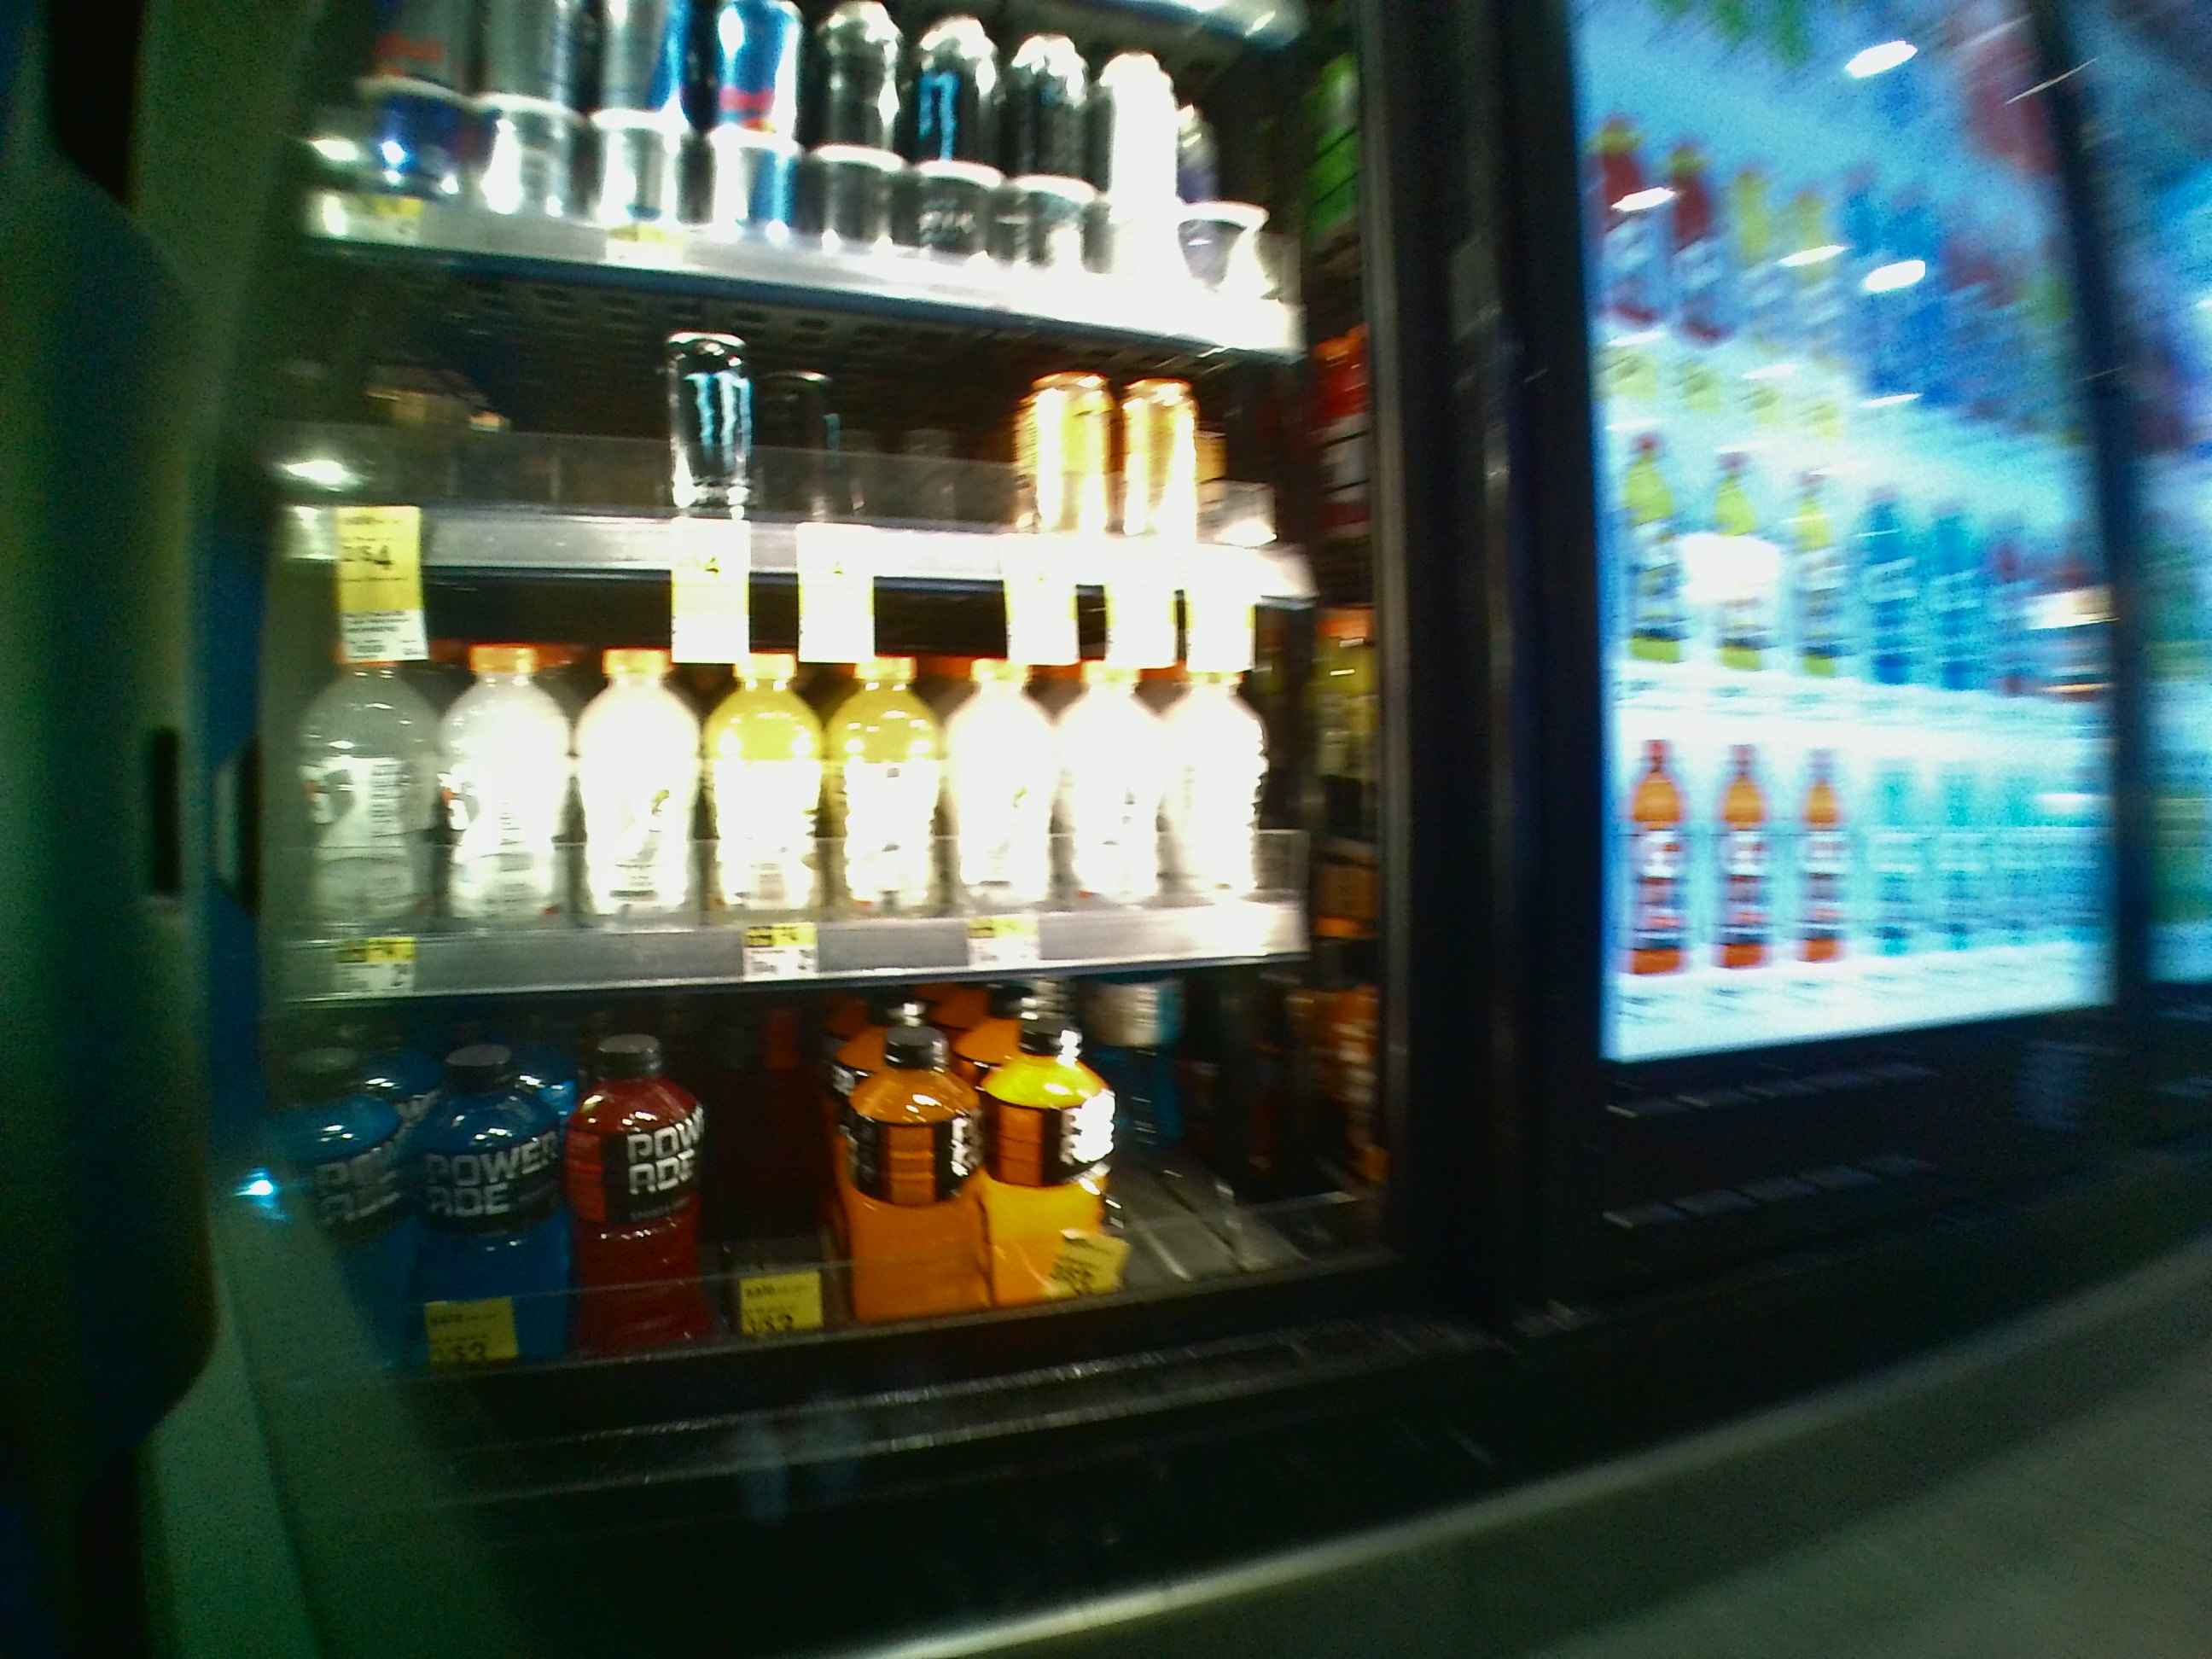shelf: (249, 572, 1404, 995)
